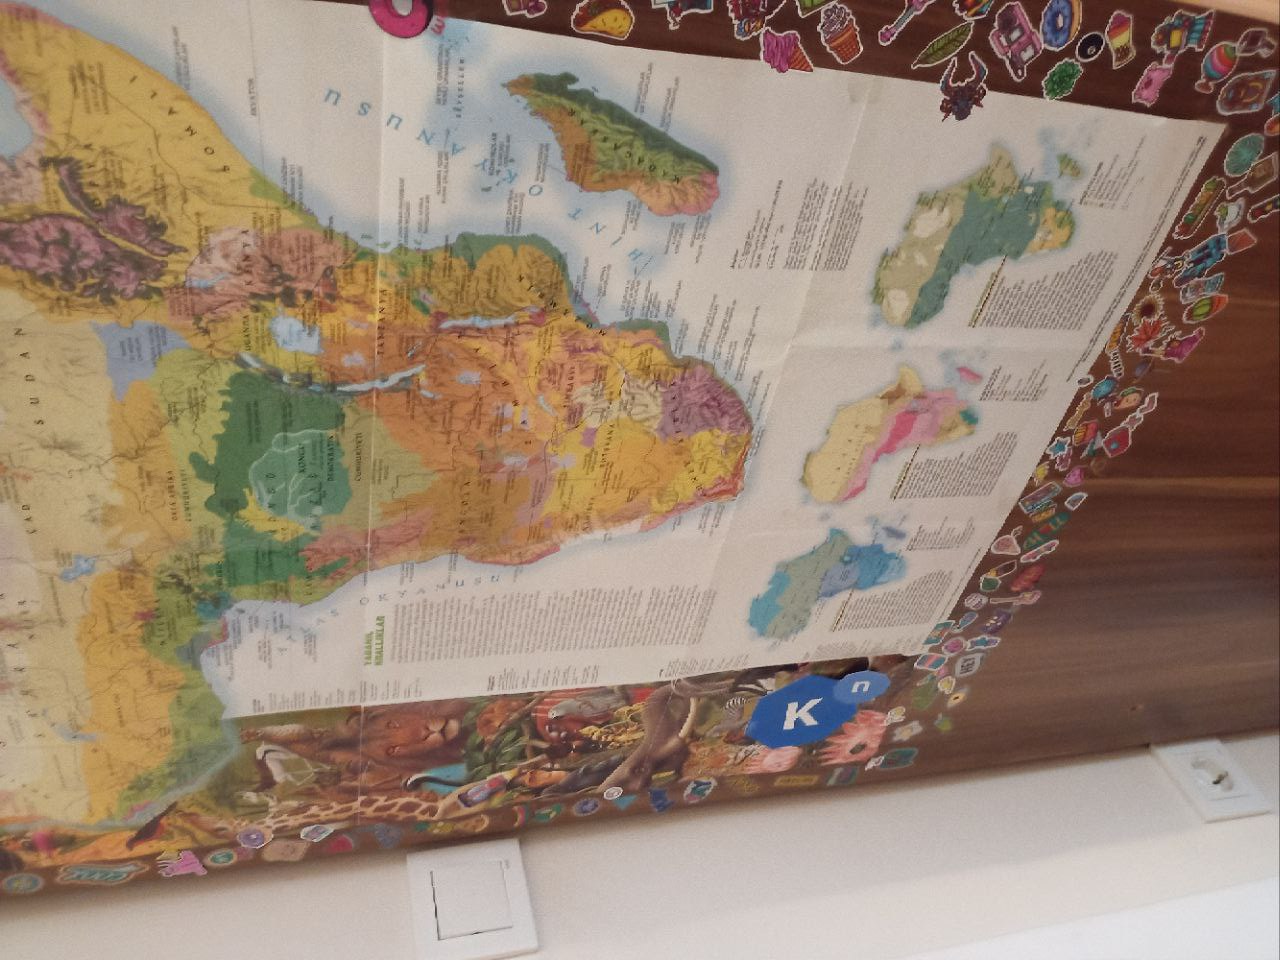knative: (747, 668, 891, 748)
